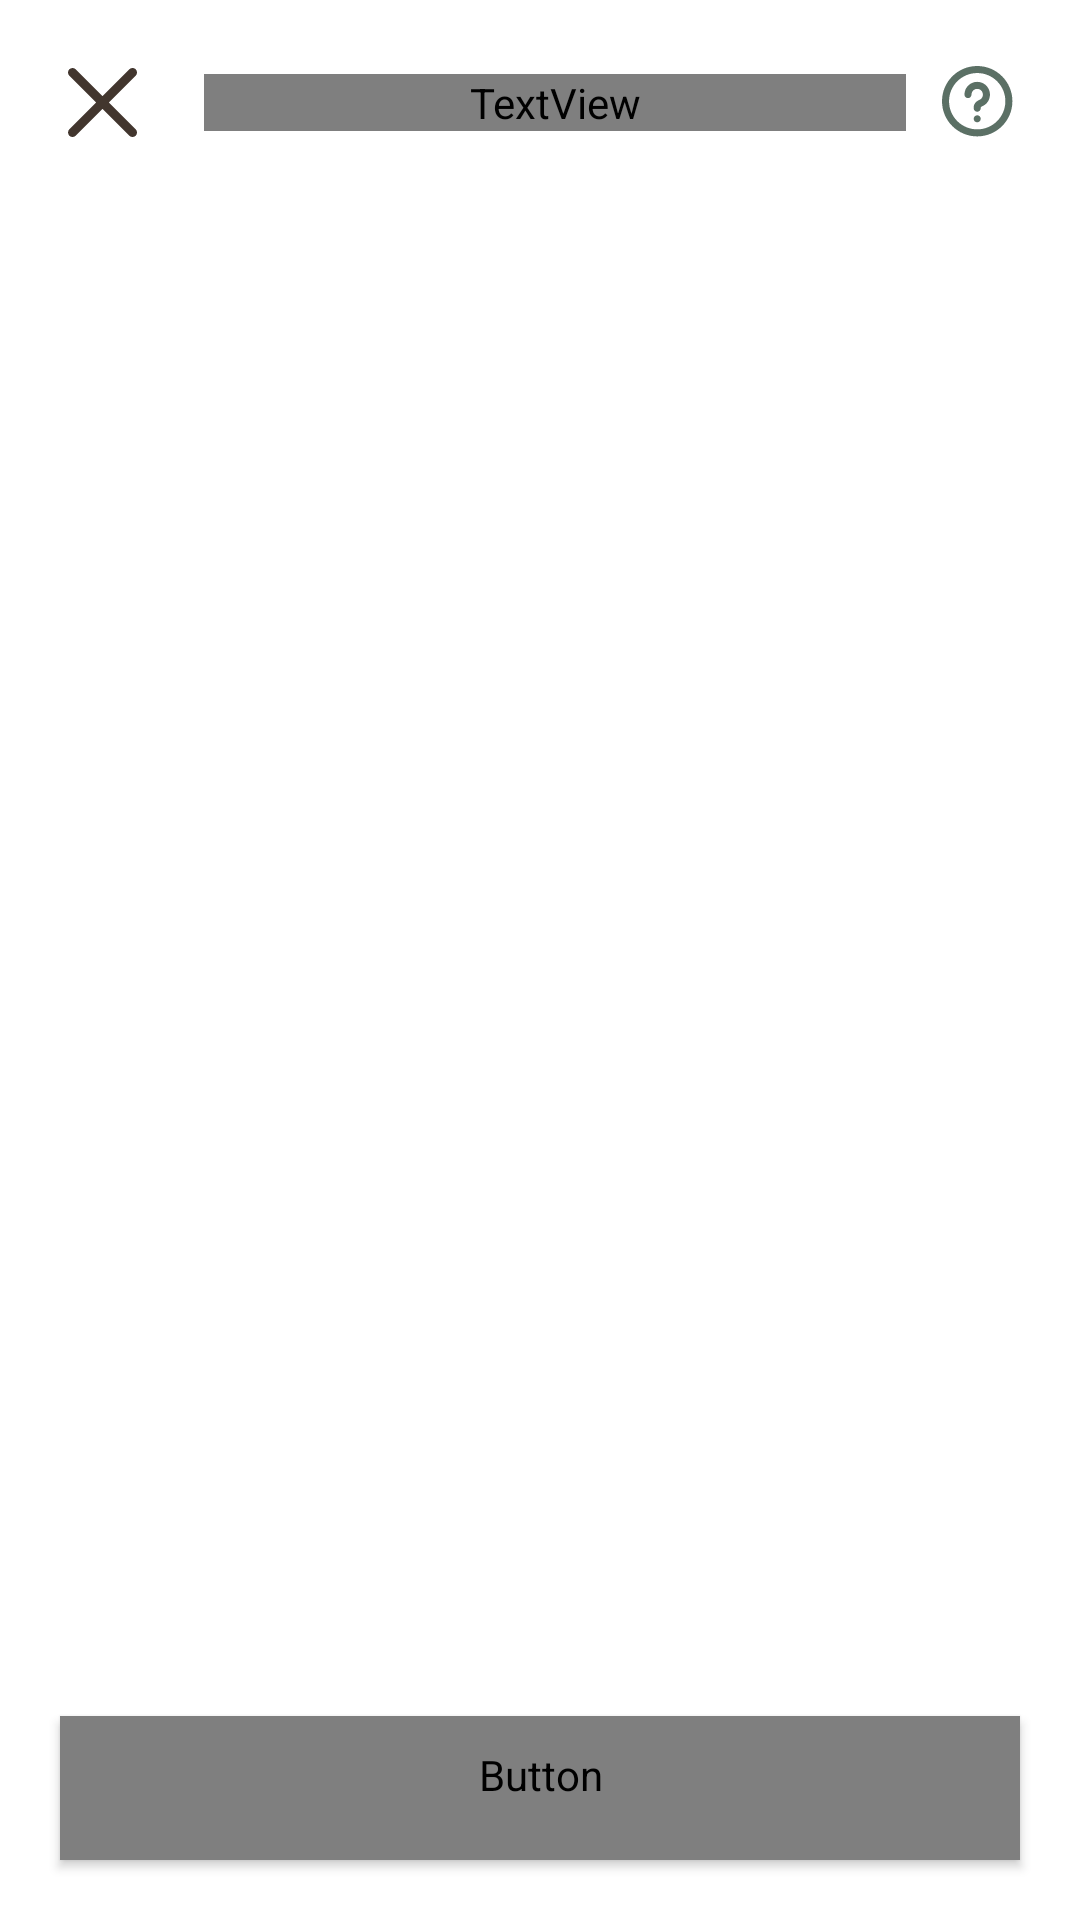

Named icons in this screenshot (1080px x 1920px) and their centers, [x,y]:
close: [102,102]
question: [977,101]
